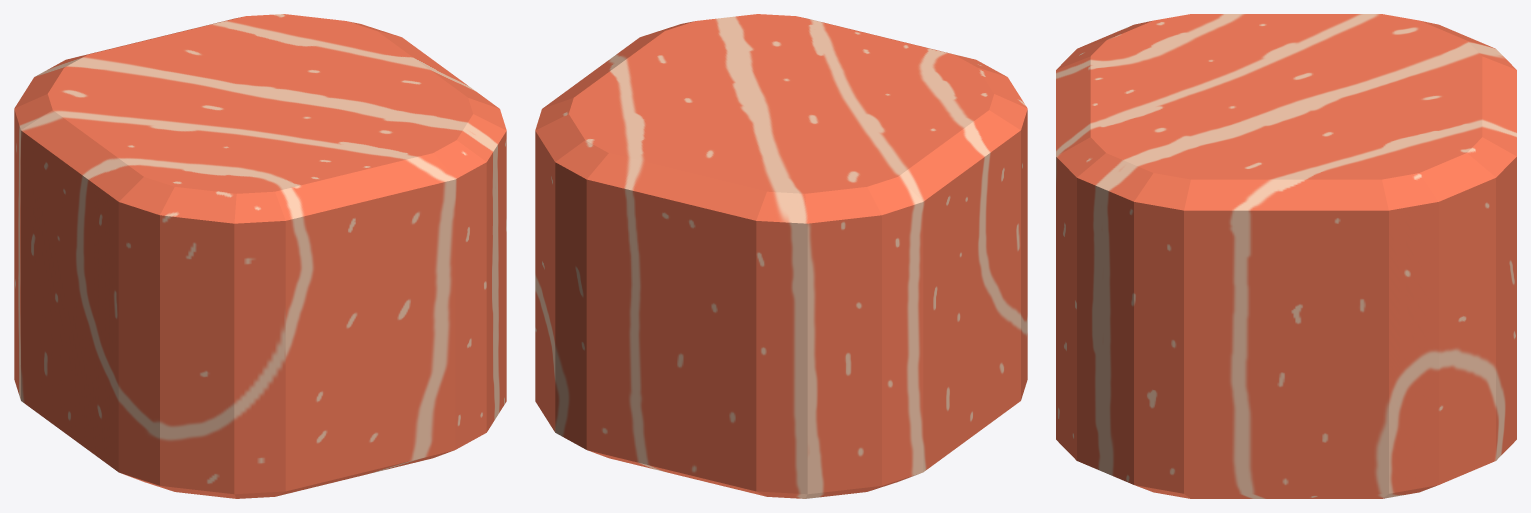
File: Sushi_fragment.fbx
The picture shows the model from 3 angles, left to right: view 1: azimuth 30°, elevation 25°; view 2: azimuth 150°, elevation 25°; view 3: azimuth 270°, elevation 25°; orthographic projection. The views are drawn at different scales.
Parts seen in each view (by area): view 1: Sushi Fragment; view 2: Sushi Fragment; view 3: Sushi Fragment.
Boxes of the visible parts, x1,y1,x2,y2 form: Sushi Fragment: [14, 14, 506, 498]; Sushi Fragment: [535, 14, 1027, 498]; Sushi Fragment: [1056, 14, 1516, 498].
Size of the model in its own units: 0.2898 by 0.2217 by 0.2898.
